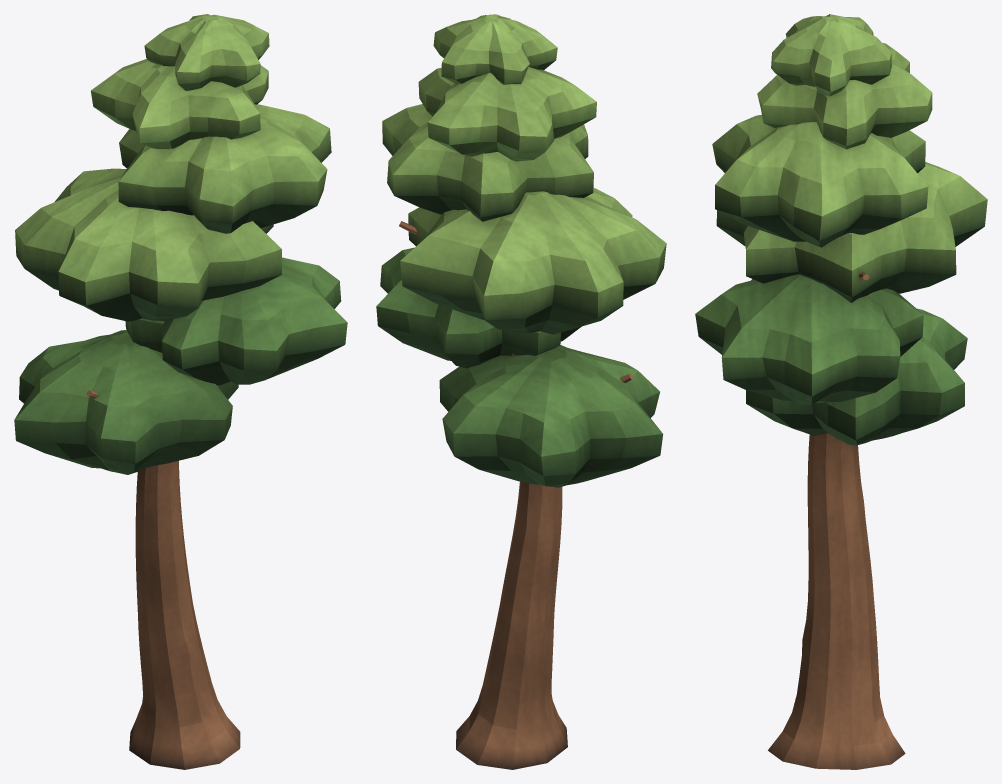
The model's file is tree_b.glb.
3 views of the same model, side by side, from view 1: azimuth 30°, elevation 25°; view 2: azimuth 150°, elevation 25°; view 3: azimuth 270°, elevation 25° (orthographic). The views are drawn at different scales.
Parts seen in each view (by area): view 1: TreeB; view 2: TreeB; view 3: TreeB.
Boxes of the visible parts, box(x1,y1,x2,y2) form: TreeB: box(14, 14, 347, 769); TreeB: box(376, 14, 666, 769); TreeB: box(695, 14, 987, 769).
Size of the model in its own units: 1.48 by 3.35 by 1.18.
1 material, 1 textured.
